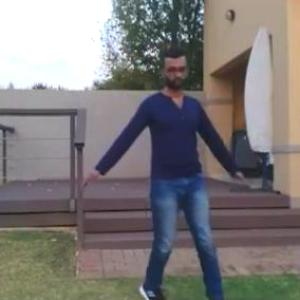land: (89, 57, 232, 294)
